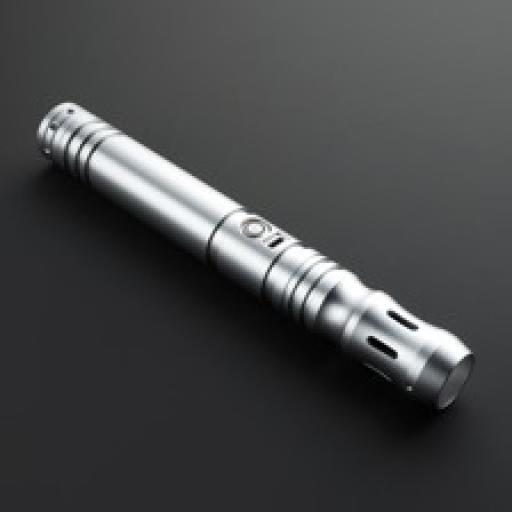lightsaber: (27, 99, 481, 409)
